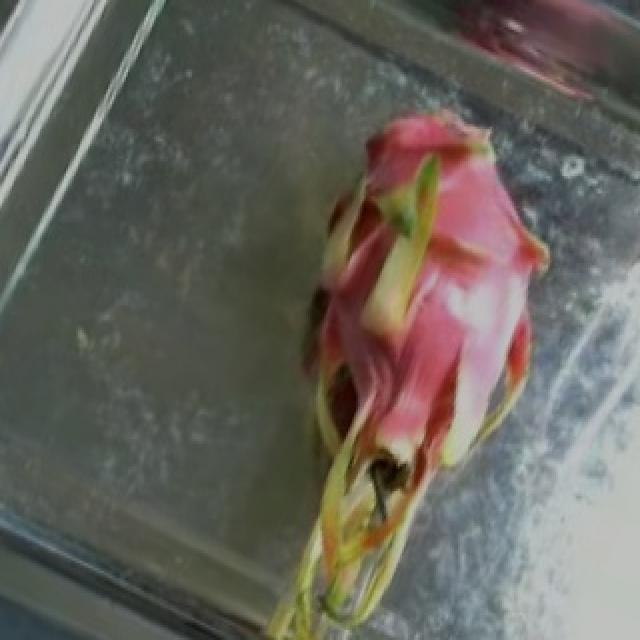fruit: (188, 50, 618, 511)
